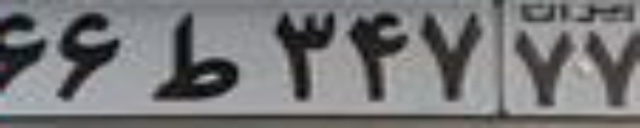3: (274, 9, 338, 102)
4: (347, 12, 408, 102)
6: (56, 12, 123, 101), (0, 13, 45, 101)
7: (421, 11, 484, 101), (513, 29, 577, 106), (581, 29, 638, 108)
taa: (154, 10, 238, 100)
